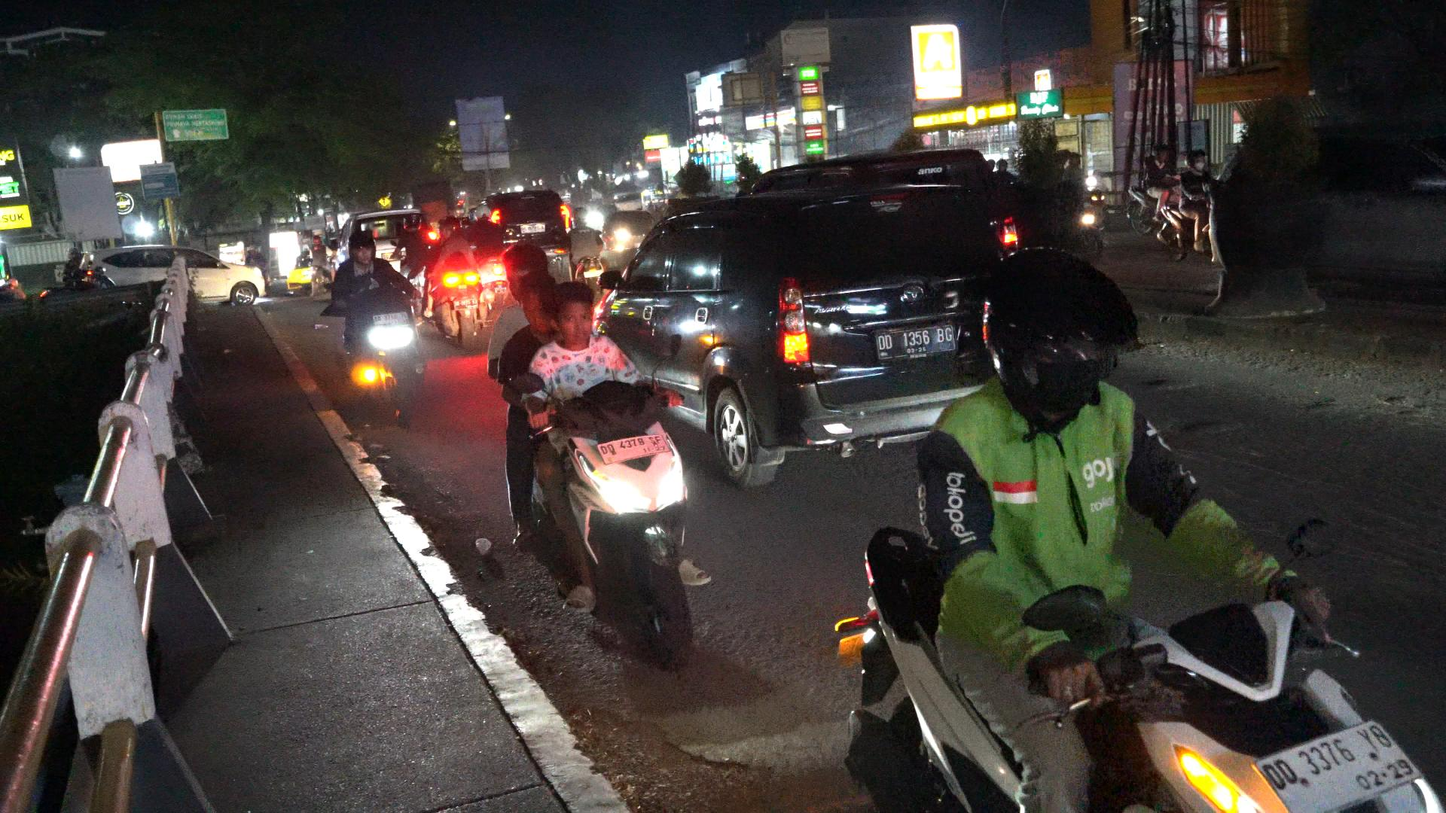number-plate: (596, 430, 679, 467)
